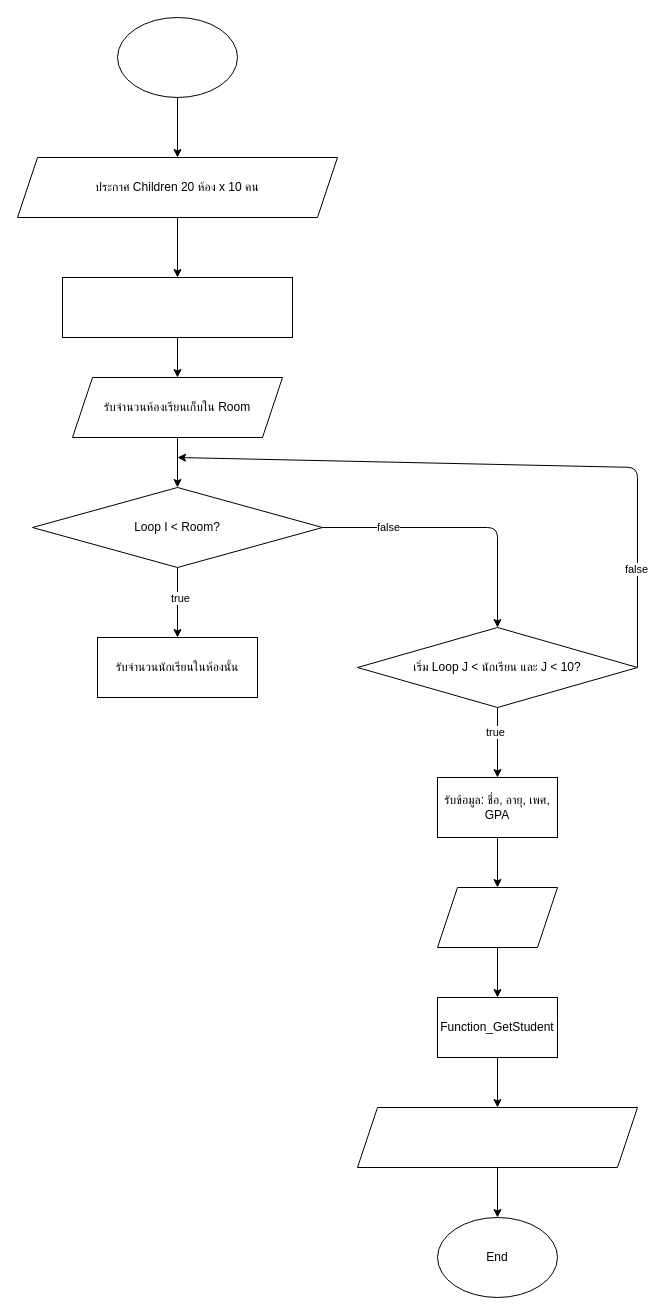
This 665x1315 diagram has some shape labels left out. Here are the shapes that lost their labels. From the top down, the centre of each, then its label:
the point at 177,57: start
the point at 177,307: เรียก GetStudent ส่ง Children และ &Grou
the point at 497,917: เก็บลงใน Child-I-J
the point at 497,1137: แสดงผลข้อมูลนักเรียนทั้งหมดด้วย Loop
